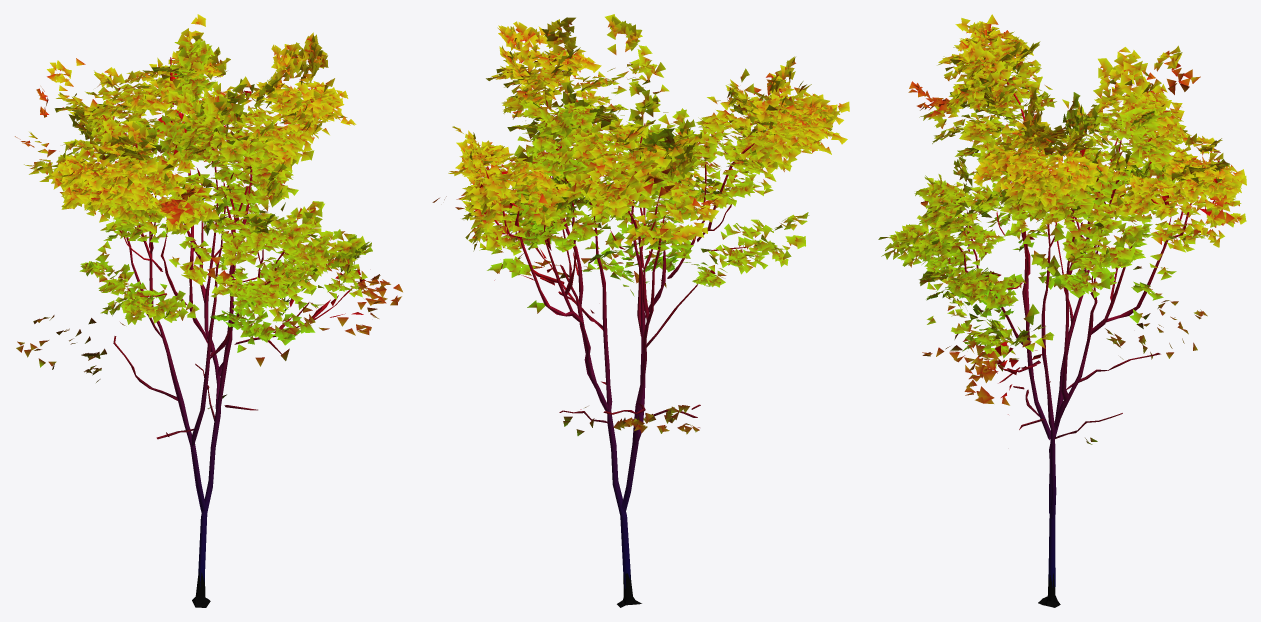
The model's file is quickdemo_trees.fbx.
3 renders of one model, left to right at view 1: azimuth 30°, elevation 25°; view 2: azimuth 150°, elevation 25°; view 3: azimuth 270°, elevation 25°, orthographic. The views are drawn at different scales.
Parts seen in each view (by area): view 1: StaticMeshActor1597; view 2: StaticMeshActor1597; view 3: StaticMeshActor1597.
Part boxes in pixels (bbox=[...]): StaticMeshActor1597: bbox=[15, 14, 402, 607]; StaticMeshActor1597: bbox=[432, 14, 849, 607]; StaticMeshActor1597: bbox=[878, 14, 1246, 607].
Bounding box in the file's own units: 2728 × 2602 × 4265.
